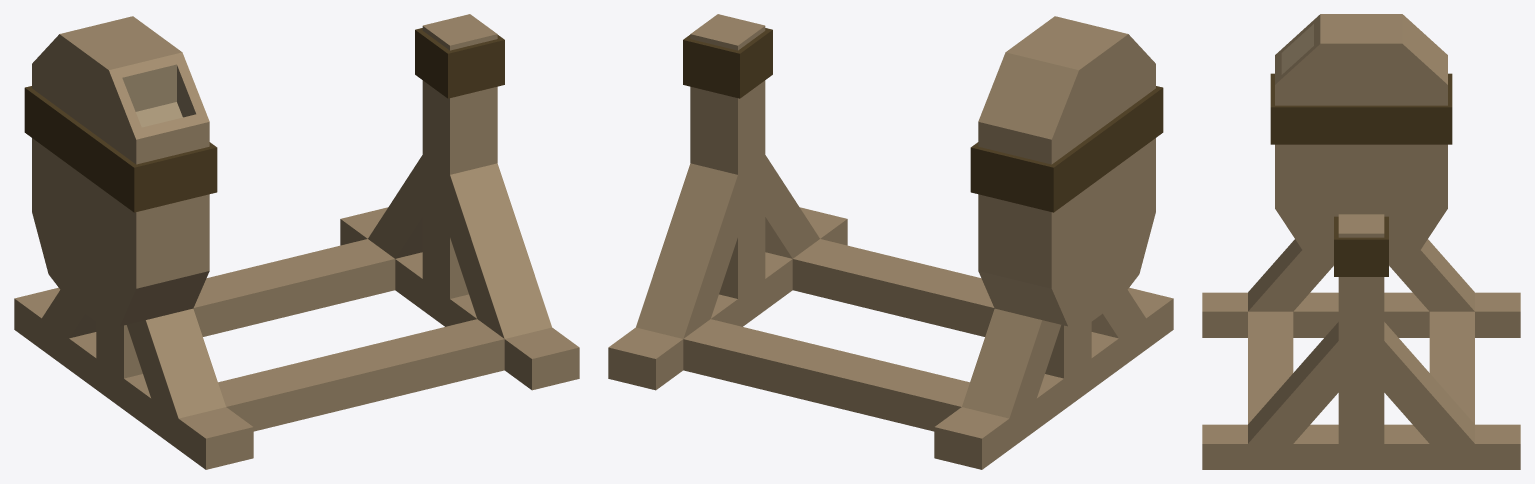
The model's file is LightWoodMechSmallMouseWheelFrame1.fbx.
3 renders of one model, left to right at view 1: azimuth 30°, elevation 25°; view 2: azimuth 150°, elevation 25°; view 3: azimuth 270°, elevation 25°, orthographic. The views are drawn at different scales.
Visible parts, largest first — view 1: LightWoodMechSmallMouseWheelFrame1; view 2: LightWoodMechSmallMouseWheelFrame1; view 3: LightWoodMechSmallMouseWheelFrame1.
Part boxes in pixels (x1,y1,x2,y2): LightWoodMechSmallMouseWheelFrame1: [14, 14, 579, 469]; LightWoodMechSmallMouseWheelFrame1: [608, 14, 1173, 469]; LightWoodMechSmallMouseWheelFrame1: [1202, 14, 1520, 469].
Size of the model in its own units: 432 by 357 by 350.
